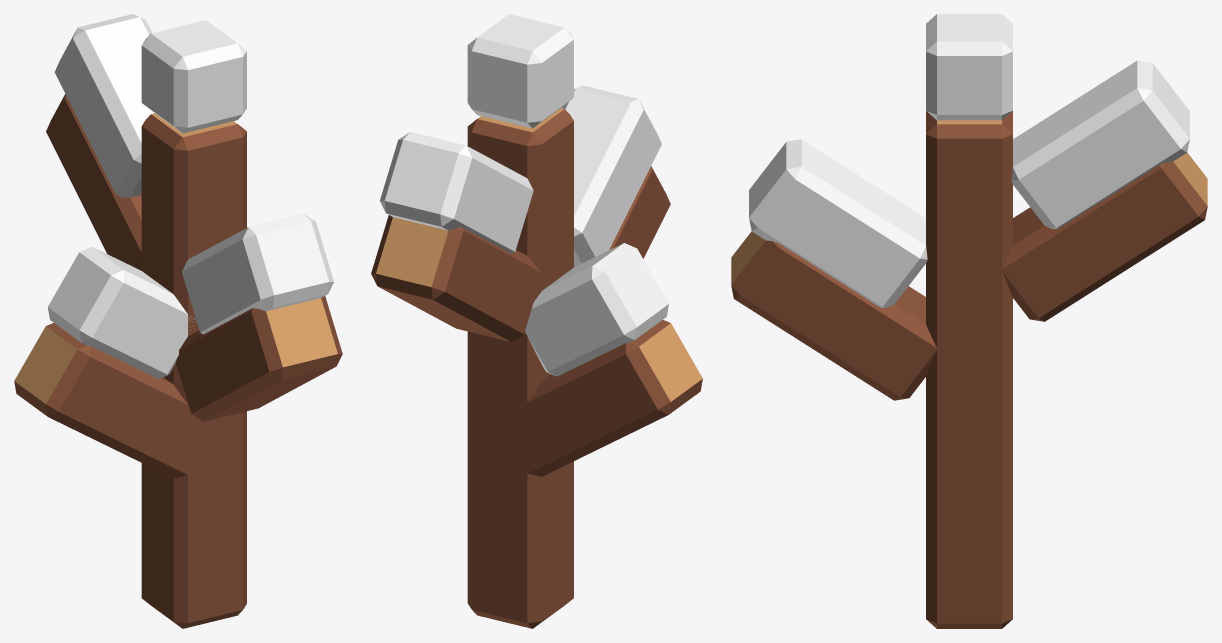
The model's file is Bush 3.fbx.
The picture shows the model from 3 angles, left to right: view 1: azimuth 30°, elevation 25°; view 2: azimuth 150°, elevation 25°; view 3: azimuth 270°, elevation 25°; orthographic projection. The views are drawn at different scales.
Visible parts, largest first — view 1: Trunk_1, Trunk_4, Trunk_2, Snow_2, Snow_1, Snow_3, Snow_5, Trunk_3; view 2: Trunk_1, Trunk_4, Trunk_3, Snow_3, Snow_1, Snow_2, Snow_5, Trunk_2; view 3: Trunk_1, Snow_2, Snow_3, Trunk_2, Trunk_3, Snow_5.
Part boxes in pixels (x1,y1,x2,y2): Trunk_1: (141, 113, 246, 628); Trunk_4: (14, 323, 225, 478); Trunk_2: (176, 296, 342, 421); Snow_2: (182, 213, 333, 334); Snow_1: (47, 247, 195, 378); Snow_3: (54, 14, 154, 197); Snow_5: (141, 20, 246, 133); Trunk_3: (46, 94, 141, 270); Trunk_1: (467, 108, 573, 628); Trunk_4: (489, 320, 702, 476); Trunk_3: (371, 215, 541, 341); Snow_3: (380, 132, 533, 253); Snow_1: (525, 243, 668, 376); Snow_2: (561, 85, 661, 267); Snow_5: (467, 14, 573, 128); Trunk_2: (609, 166, 670, 258); Trunk_1: (926, 111, 1012, 628); Snow_2: (749, 139, 927, 307); Snow_3: (1011, 60, 1189, 229); Trunk_2: (731, 231, 936, 400); Trunk_3: (1002, 152, 1207, 321); Snow_5: (926, 14, 1012, 120).
Size of the model in its own units: 0.2739 by 0.745 by 0.5478.
